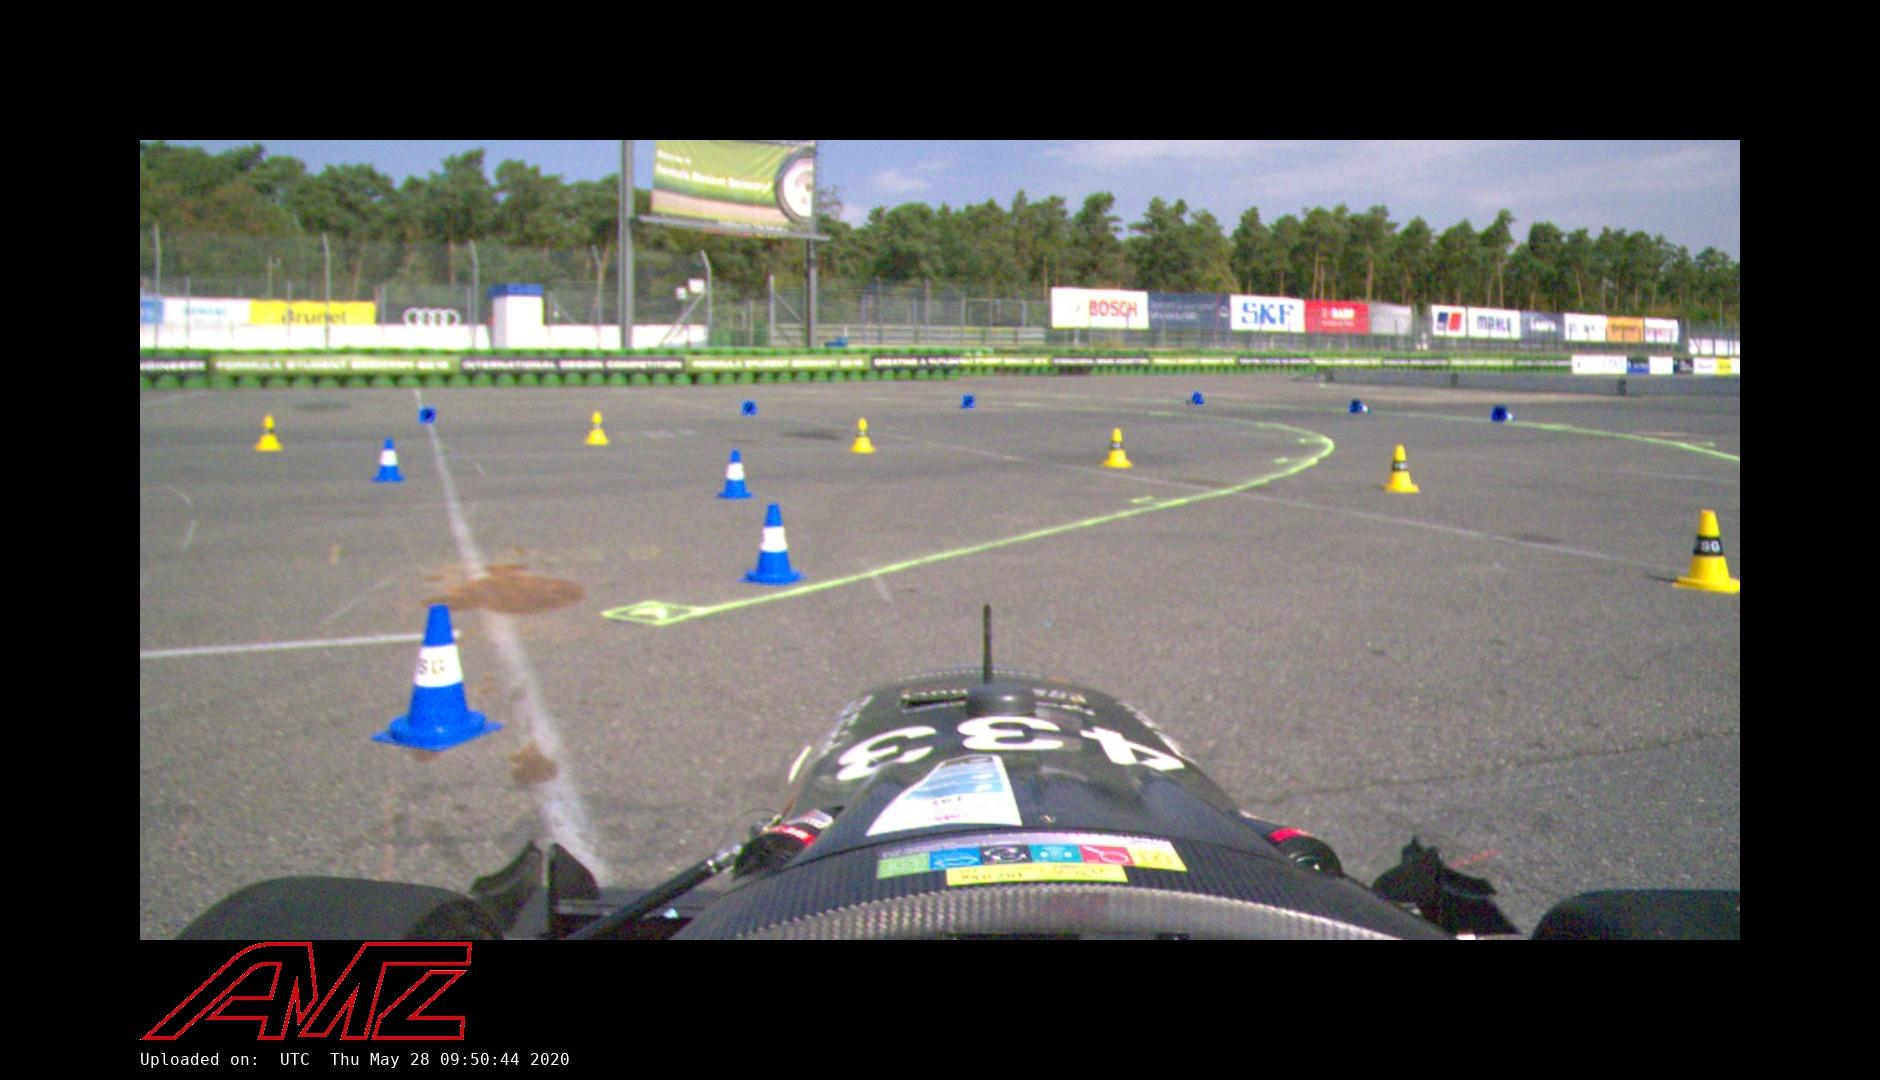blue_cone: (371, 605, 504, 751), (739, 504, 807, 587), (714, 448, 758, 500), (368, 438, 407, 483), (1489, 406, 1516, 422), (416, 406, 438, 422), (1349, 399, 1371, 413), (741, 400, 759, 416), (1187, 390, 1205, 406), (959, 394, 977, 408)
yellow_cone: (1673, 508, 1739, 592), (1384, 444, 1420, 492), (252, 413, 284, 451), (1103, 428, 1132, 468), (850, 417, 877, 453), (582, 411, 609, 446)
